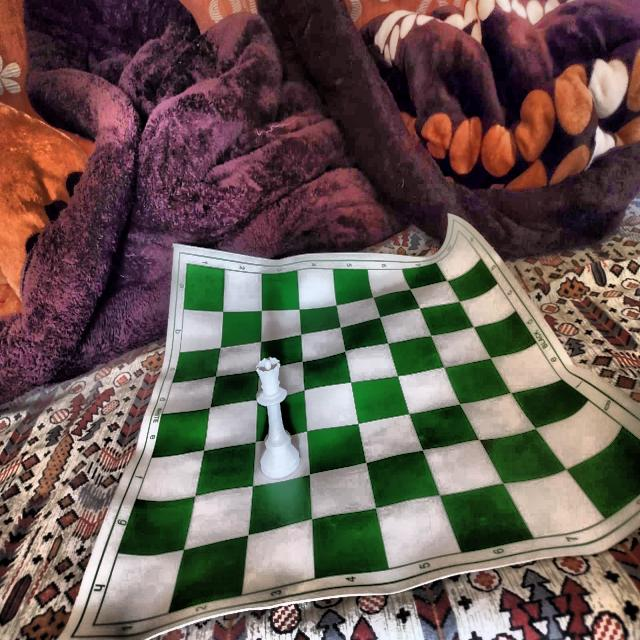WhiteQueen: (255, 356, 304, 482)
